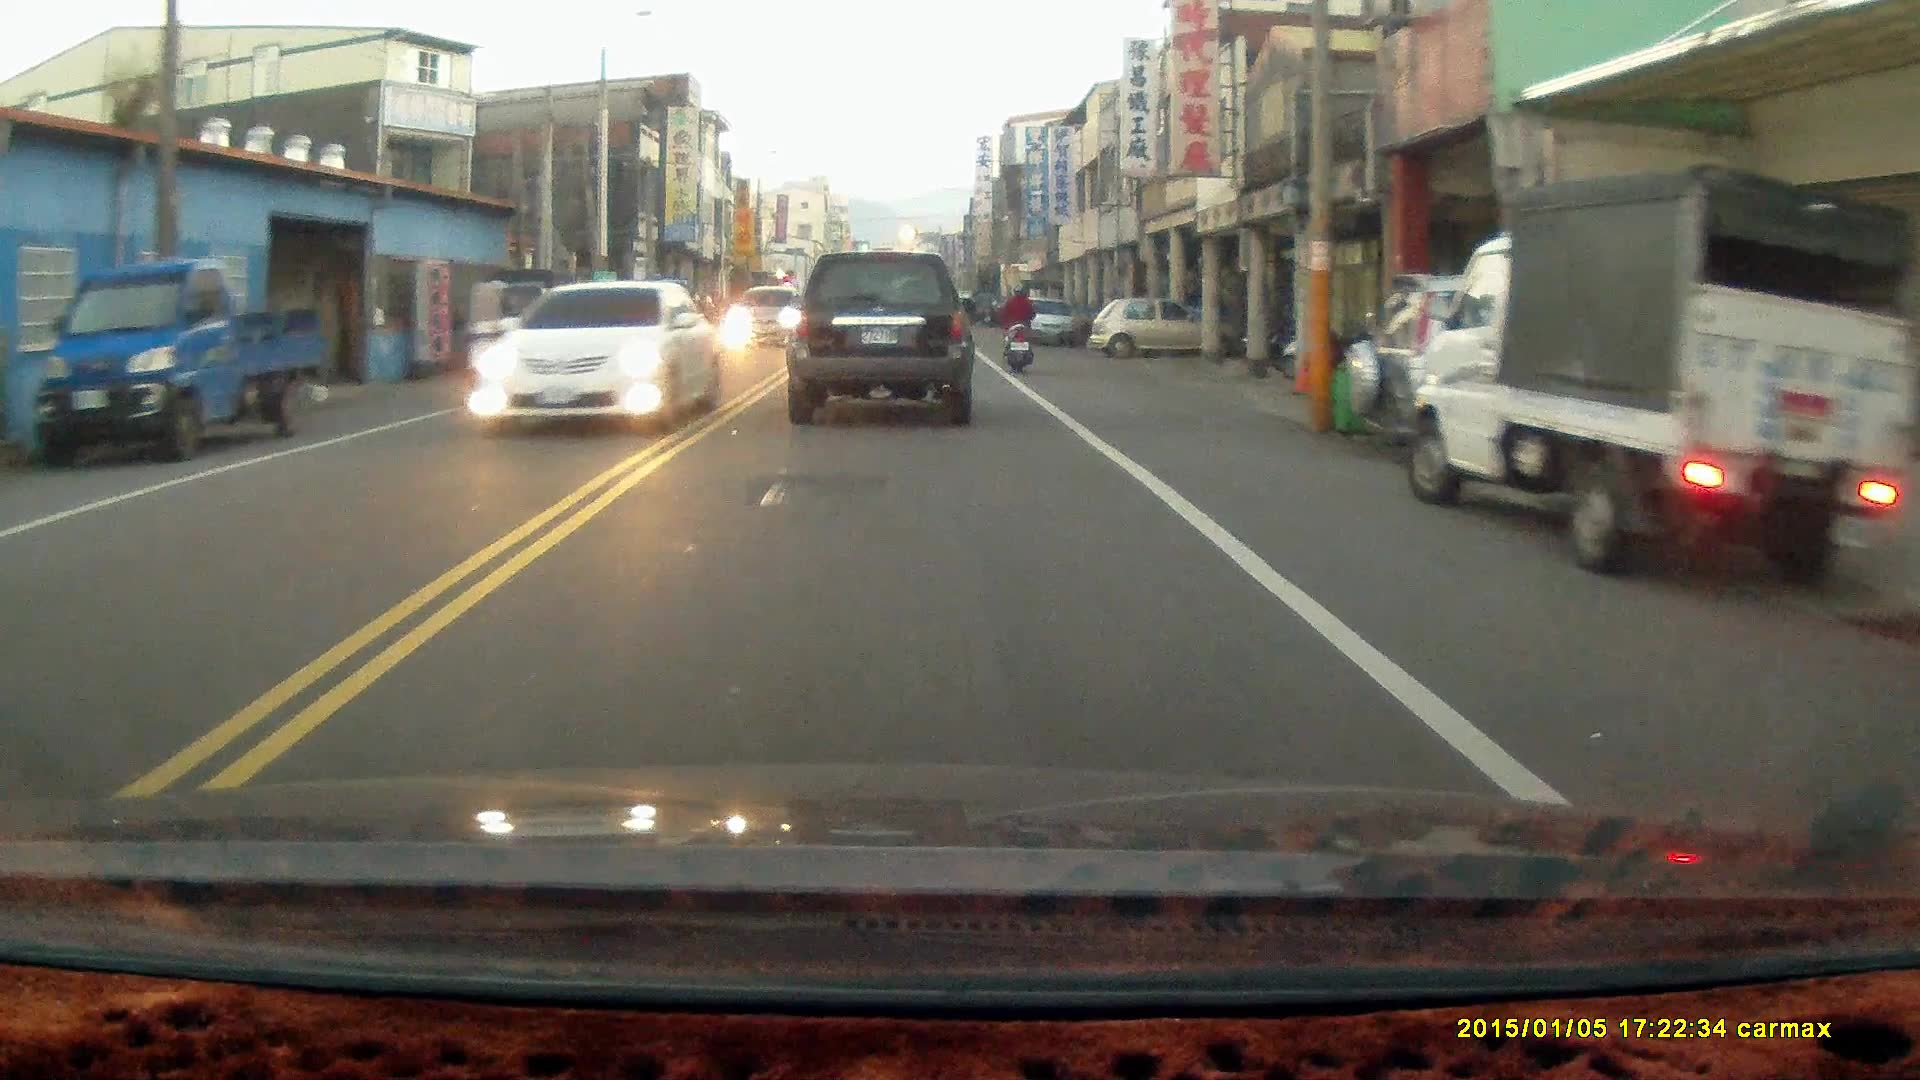rider: (452, 274, 511, 400), (997, 279, 1034, 374)
vehicle: (1402, 166, 1909, 594), (1351, 274, 1788, 459), (30, 261, 327, 467), (467, 277, 725, 435), (785, 248, 981, 427), (1089, 294, 1207, 357), (1017, 297, 1078, 348)
